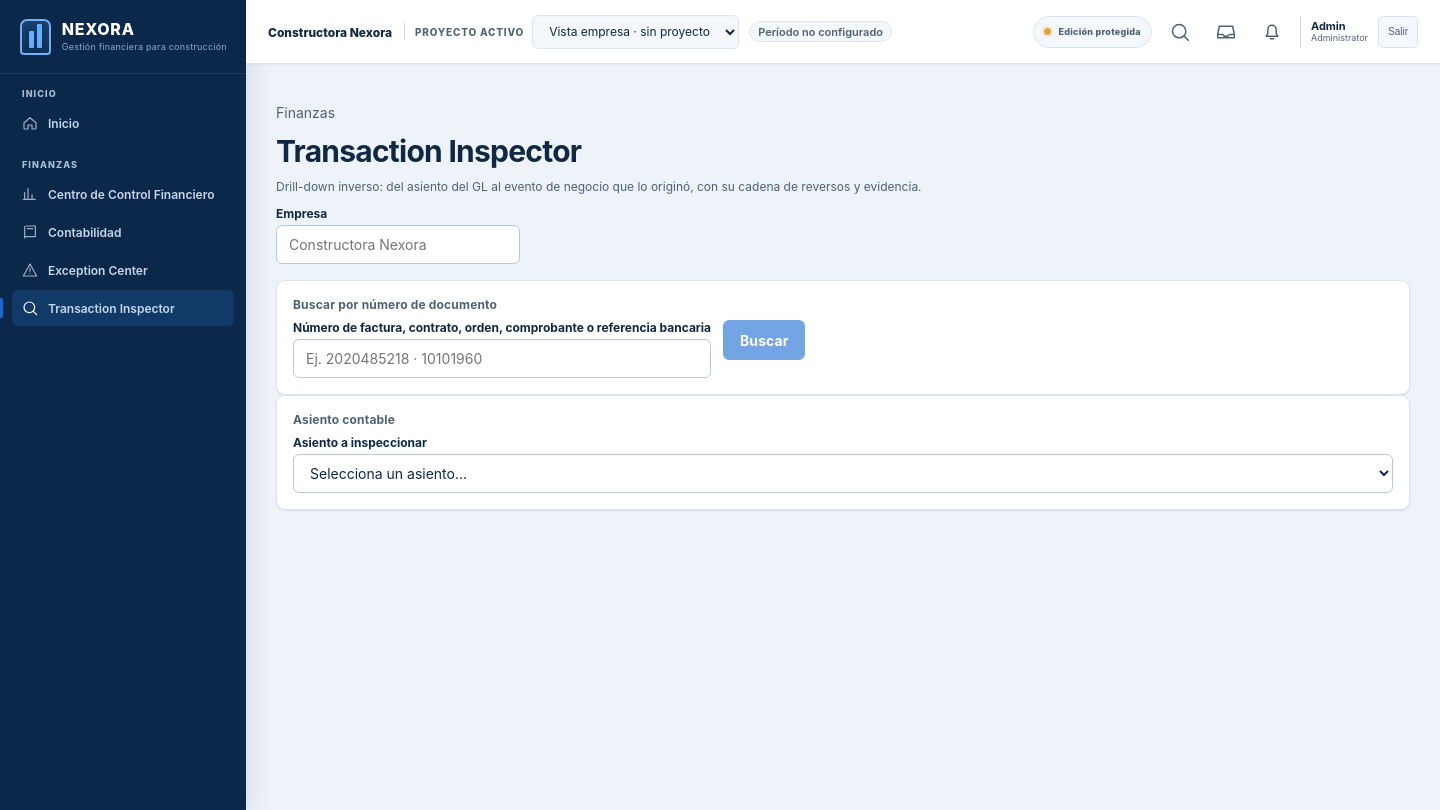
Scenario: TransactionInspectorPage › does inverse drill-down from the GL entry to its business event
Select "REM-2026-0001 · CENTRAL · Contabilizado" in the dropdown labelled "Asiento a inspeccionar": (843,474) [293,454,1393,493]
(page scrolled)
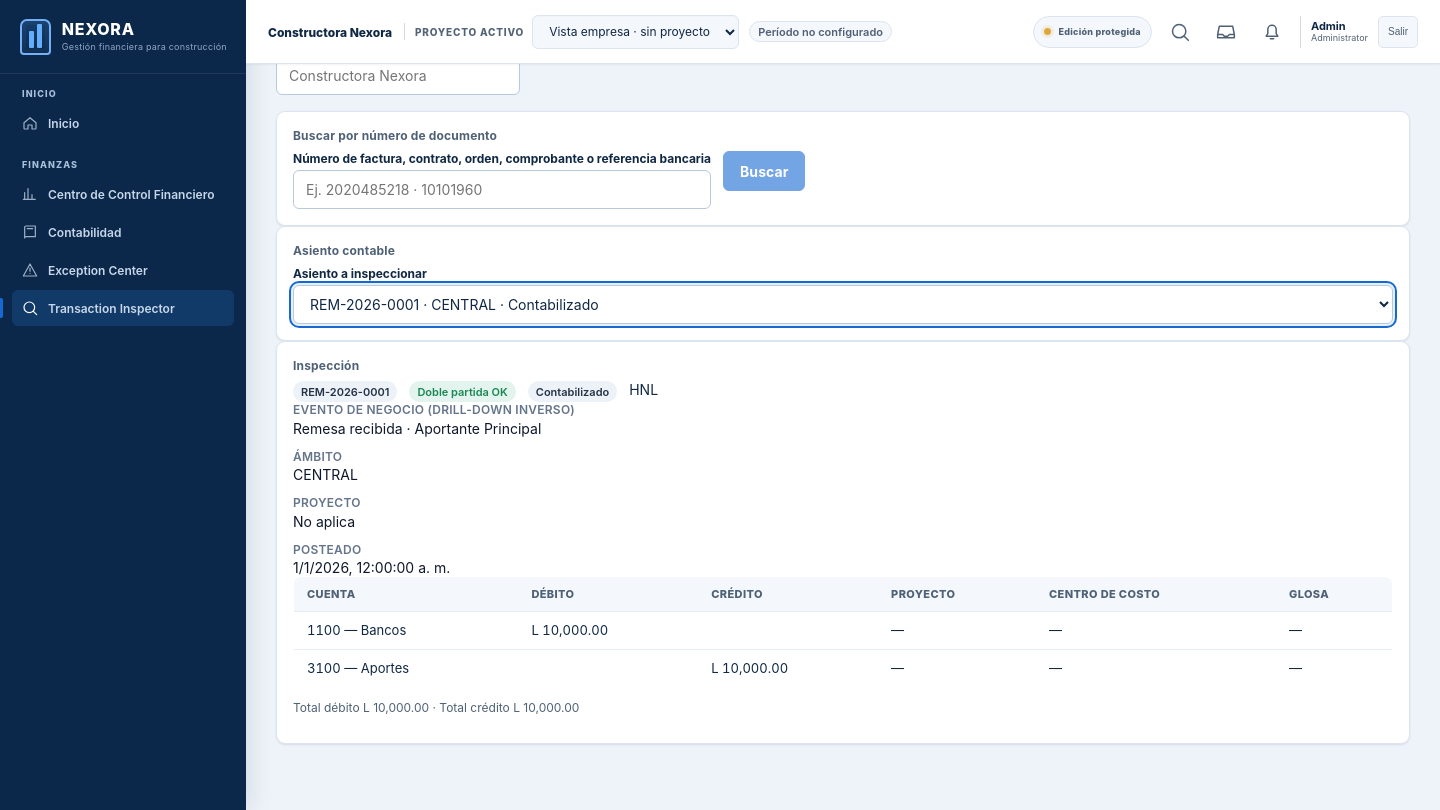
Expected: the text "Remesa recibida · Aportante Principal" is shown, [293,420,541,437]
Expected: the text "Doble partida OK" is shown, [409,381,516,402]
Expected: the text "1100 — Bancos" is shown, [294,612,518,650]
